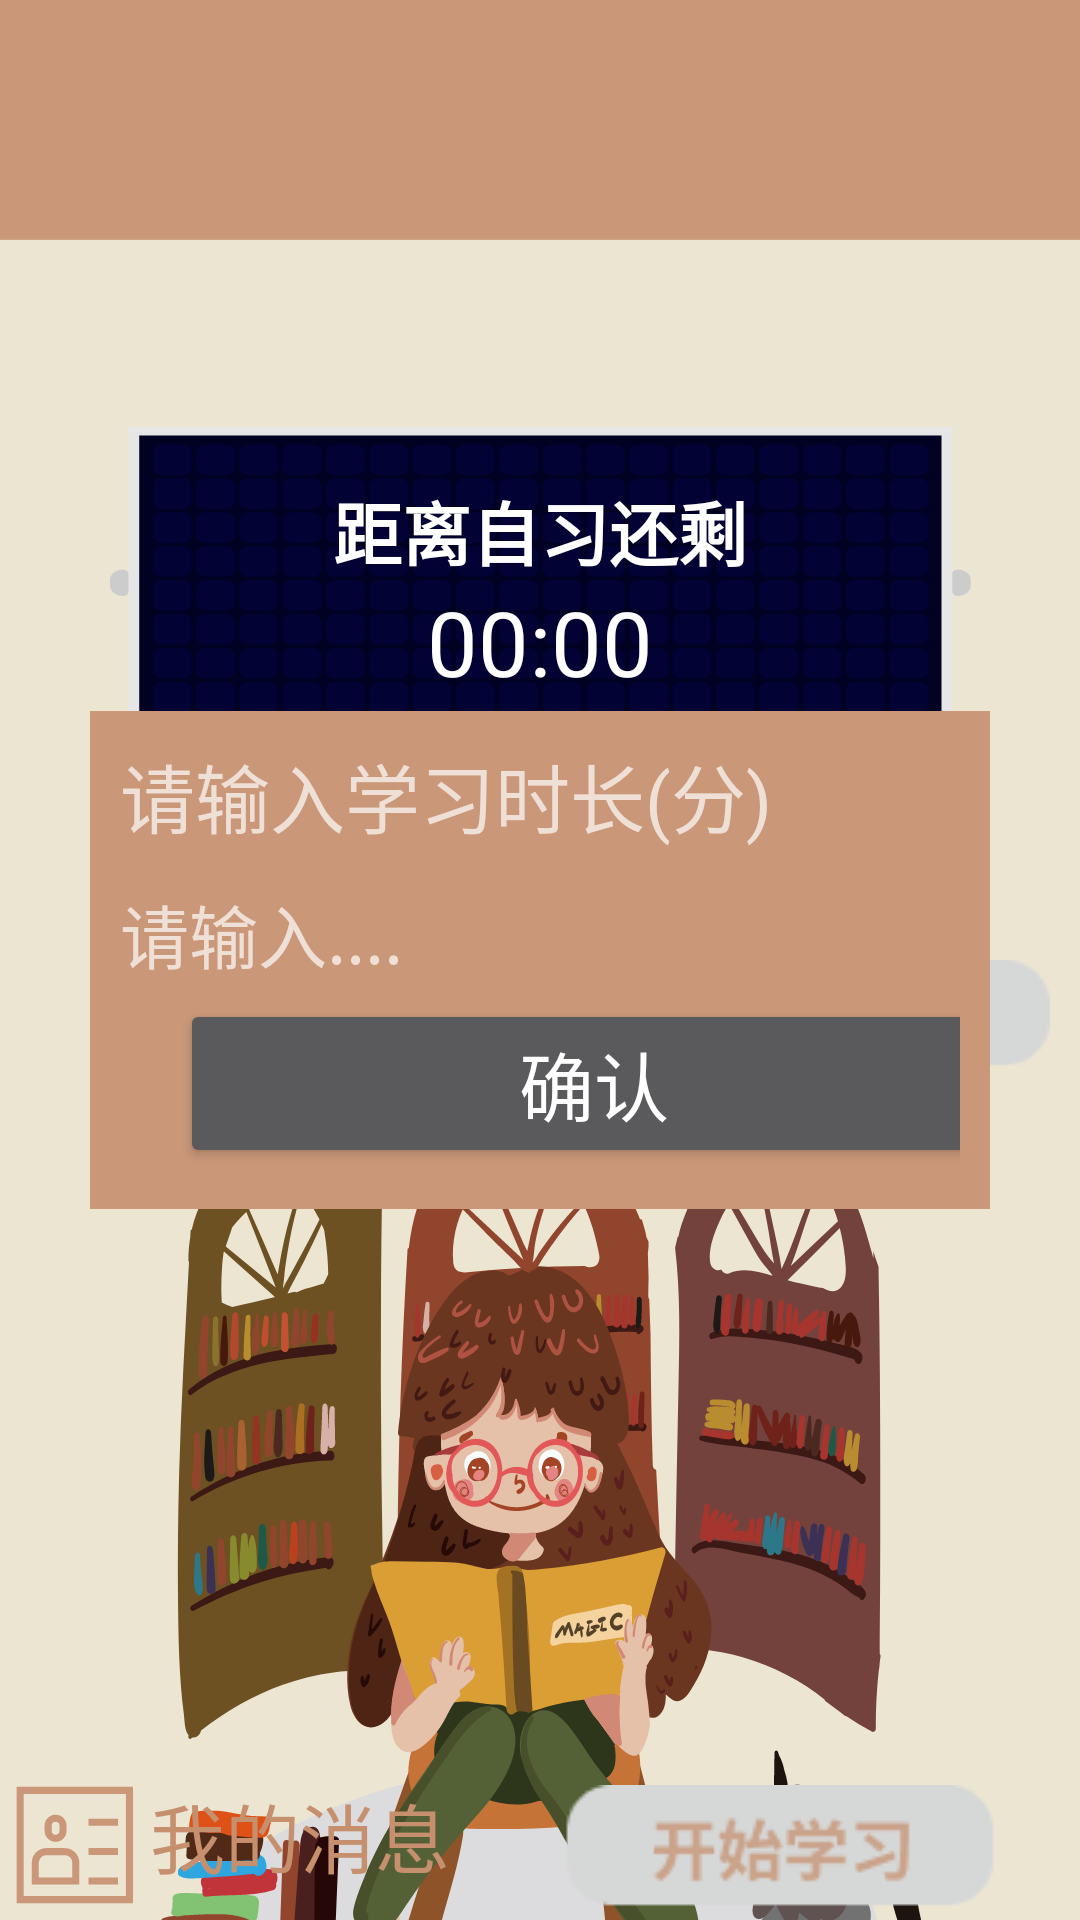

Where to tap for icons on this 1080px×1920px app screen, as (x,y):
minemessage: (74,1845)
